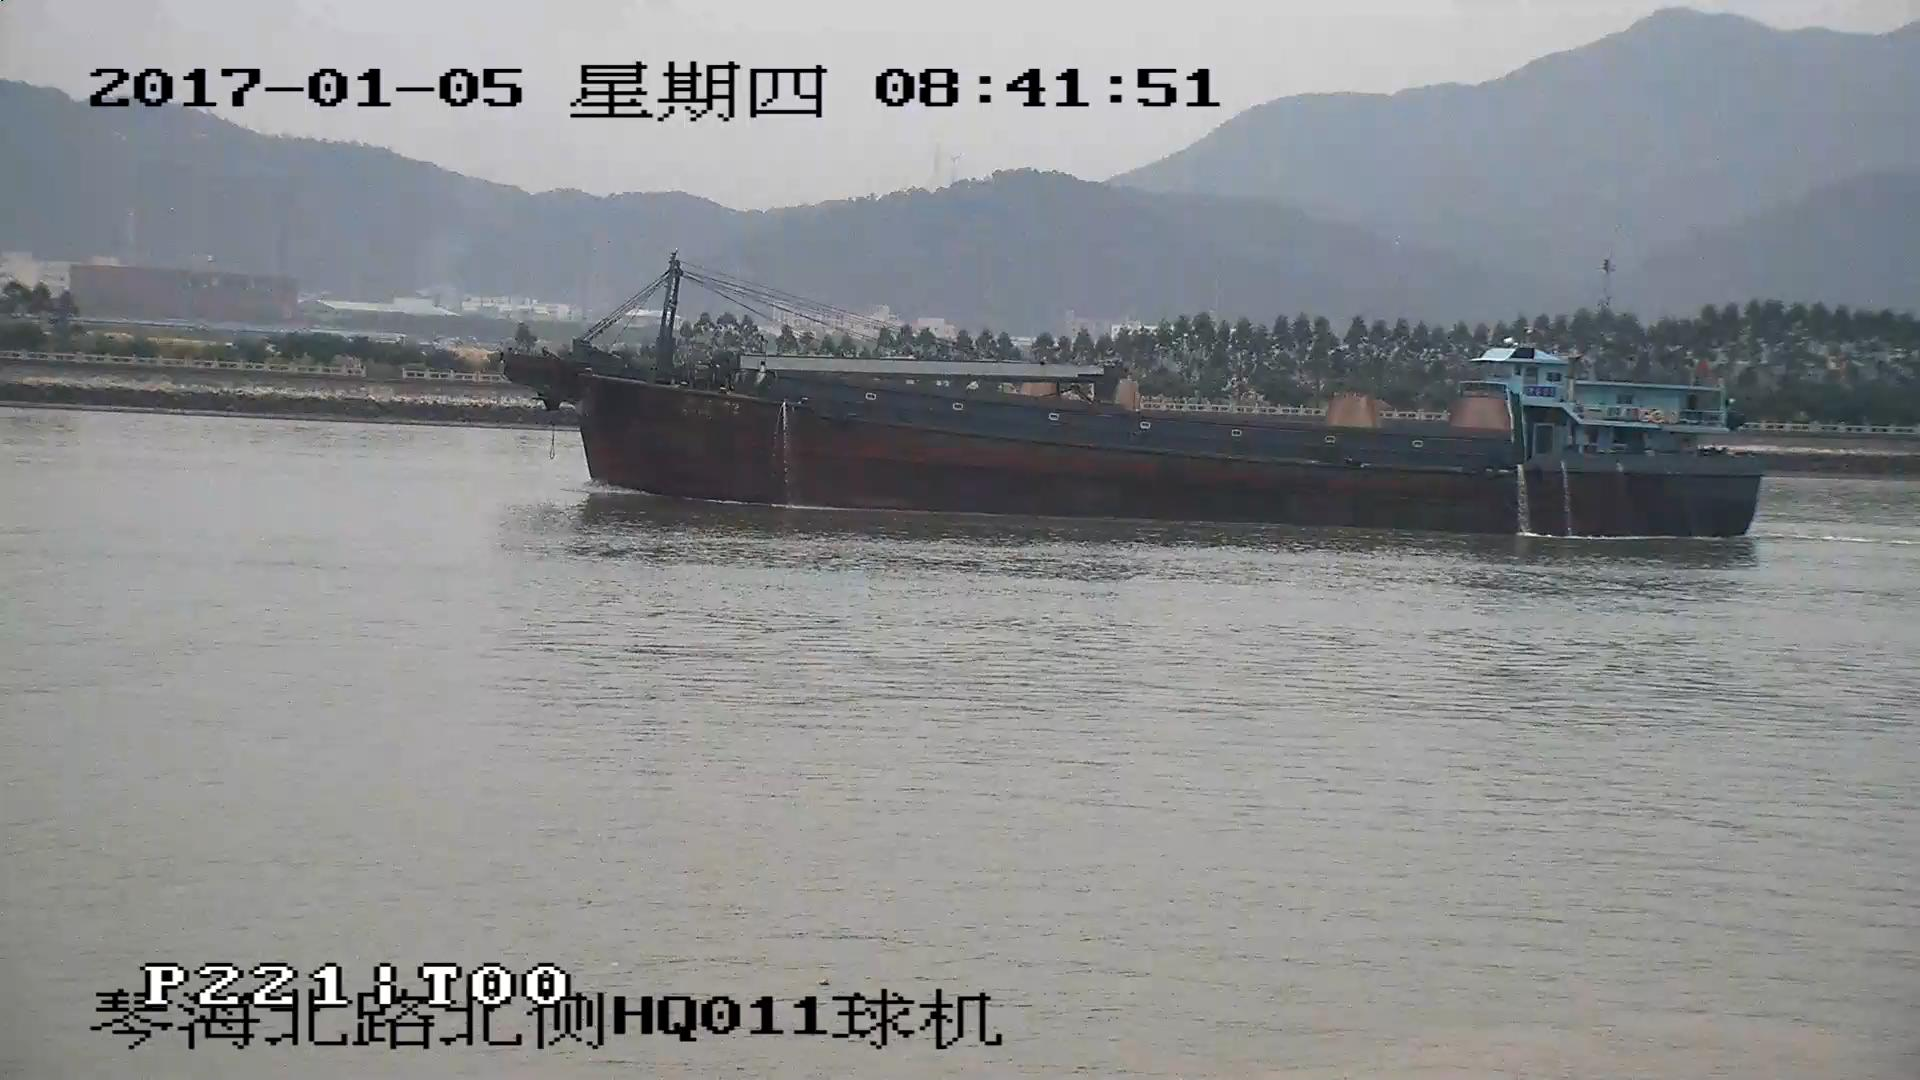bulk cargo carrier: (498, 257, 1762, 538)
